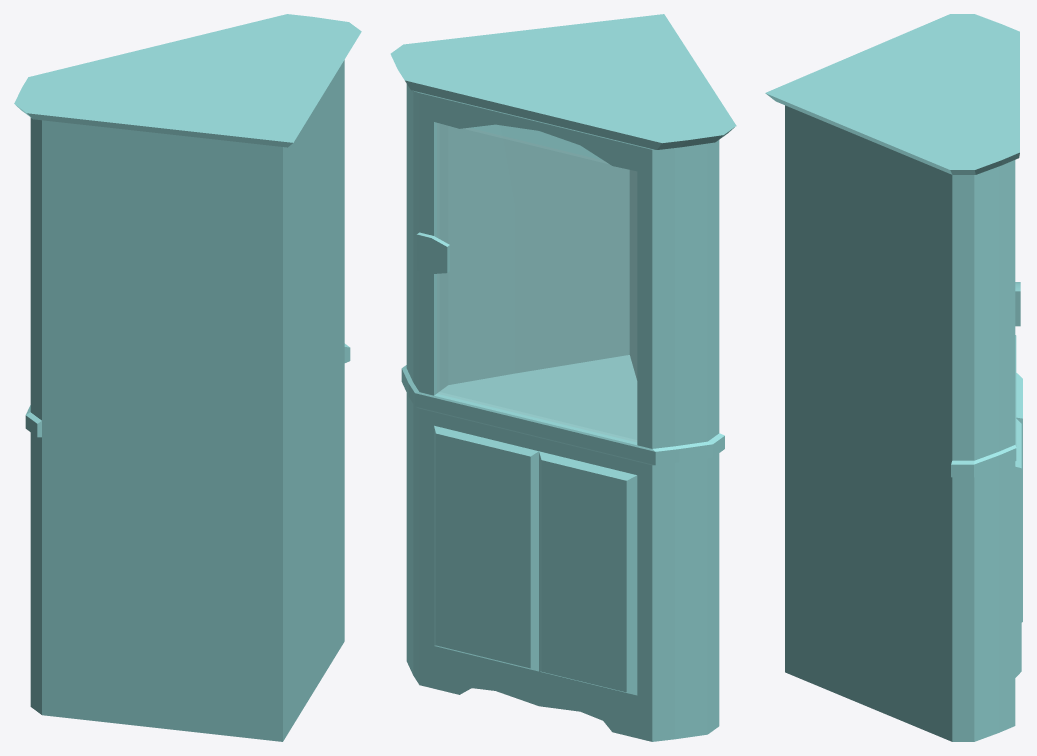
The model's file is ChinaCabinet.fbx.
3 views of the same model, side by side, from view 1: azimuth 30°, elevation 25°; view 2: azimuth 150°, elevation 25°; view 3: azimuth 270°, elevation 25° (orthographic). The views are drawn at different scales.
Parts seen in each view (by area): view 1: china_cabinet; view 2: china_cabinet, china_cabinet_glass; view 3: china_cabinet.
Boxes of the visible parts, box(x1,y1,x2,y2) form: china_cabinet: box(14, 14, 361, 741); china_cabinet: box(390, 14, 736, 741); china_cabinet_glass: box(437, 123, 636, 441); china_cabinet: box(765, 14, 1022, 741).
Size of the model in its own units: 42.15 by 72.92 by 29.43.
